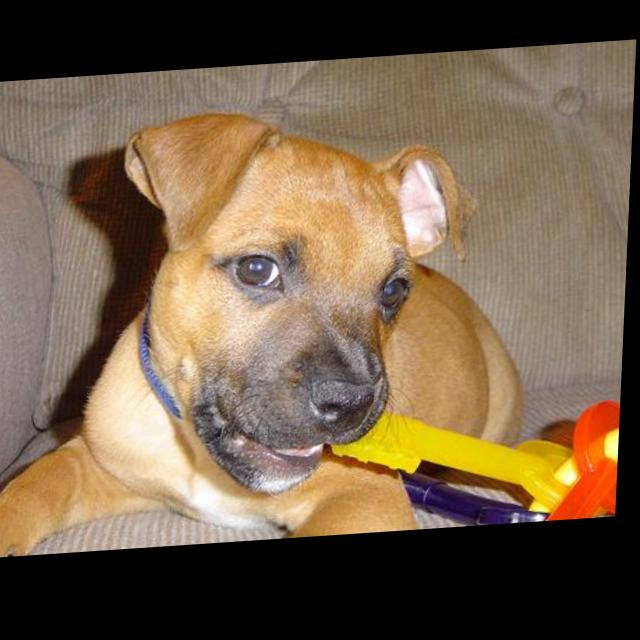amstaff: (1, 97, 541, 560)
